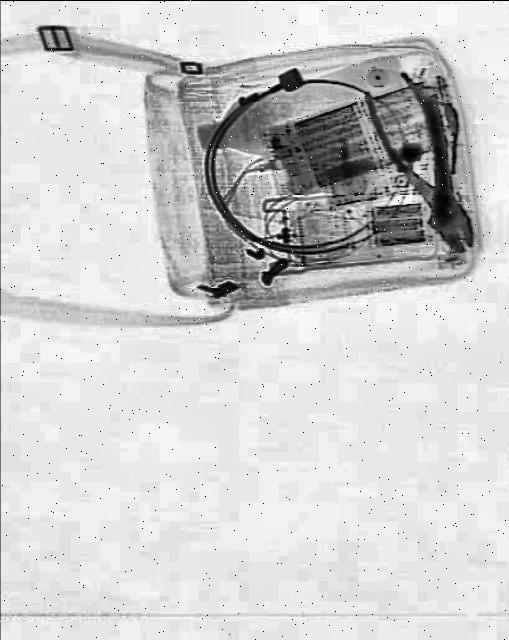Pliers: (354, 63, 494, 270)
